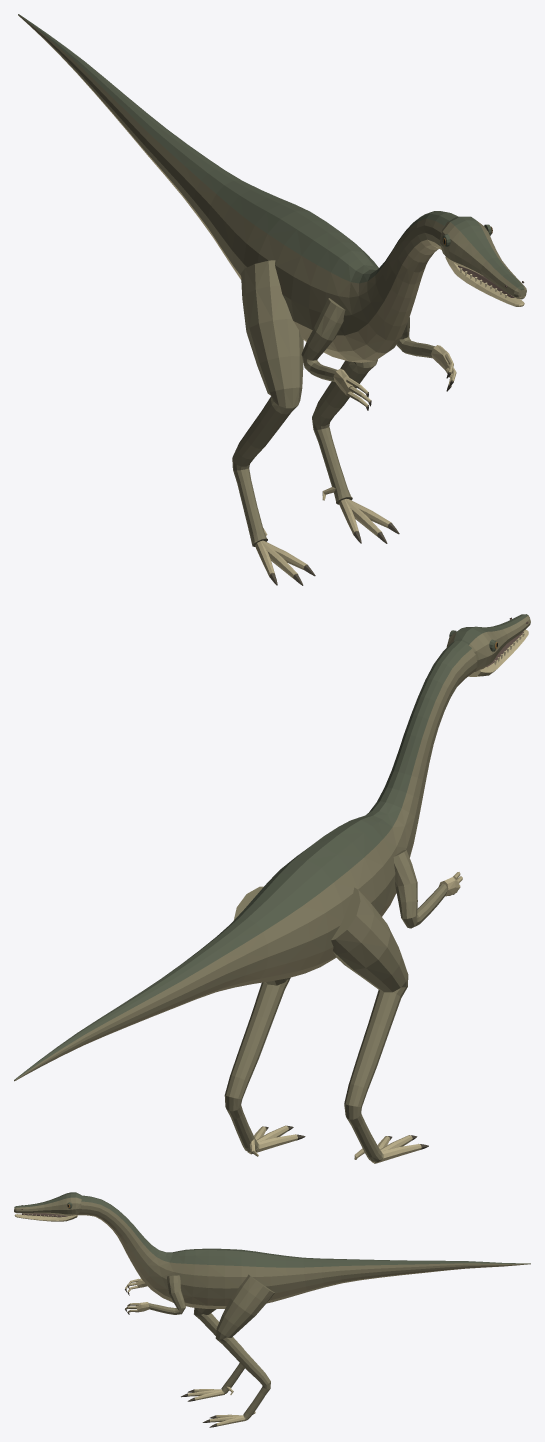
The picture shows the model from 3 angles, top to bottom: view 1: azimuth 30°, elevation 25°; view 2: azimuth 150°, elevation 25°; view 3: azimuth 270°, elevation 25°; orthographic projection. The views are drawn at different scales.
Parts seen in each view (by area): view 1: Axial-body-neck-tail, Left-thigh-shin-metatarsus, Low-wedge-upper-head, Right-thigh-shin-metatarsus, Left-flexed-forelimb, Right-three-toed-foot, Left-three-toed-foot, Slender-lower-jaw; view 2: Axial-body-neck-tail, Left-thigh-shin-metatarsus, Right-thigh-shin-metatarsus, Left-flexed-forelimb, Low-wedge-upper-head, Right-three-toed-foot, Left-three-toed-foot; view 3: Axial-body-neck-tail, Right-thigh-shin-metatarsus, Low-wedge-upper-head, Right-flexed-forelimb, Left-thigh-shin-metatarsus, Left-three-toed-foot, Right-three-toed-foot, Slender-lower-jaw.
Part boxes in pixels (box(x1,y1,x2,y2)): Axial-body-neck-tail: box(18, 14, 458, 362); Left-thigh-shin-metatarsus: box(232, 260, 303, 546); Low-wedge-upper-head: box(440, 216, 526, 299); Right-thigh-shin-metatarsus: box(312, 359, 377, 504); Left-flexed-forelimb: box(301, 298, 345, 381); Right-three-toed-foot: box(322, 487, 391, 536); Left-three-toed-foot: box(255, 528, 307, 578); Slender-lower-jaw: box(445, 257, 524, 306); Axial-body-neck-tail: box(14, 640, 477, 1081); Left-thigh-shin-metatarsus: box(331, 887, 408, 1162); Right-thigh-shin-metatarsus: box(224, 886, 290, 1152); Left-flexed-forelimb: box(393, 850, 447, 928); Low-wedge-upper-head: box(446, 614, 530, 671); Right-three-toed-foot: box(247, 1125, 297, 1156); Left-three-toed-foot: box(354, 1135, 421, 1163); Axial-body-neck-tail: box(77, 1195, 530, 1308); Right-thigh-shin-metatarsus: box(215, 1274, 274, 1419); Low-wedge-upper-head: box(14, 1192, 81, 1216); Right-flexed-forelimb: box(148, 1275, 185, 1314); Left-thigh-shin-metatarsus: box(194, 1307, 244, 1393); Left-three-toed-foot: box(188, 1386, 233, 1400); Right-three-toed-foot: box(210, 1411, 255, 1426); Slender-lower-jaw: box(14, 1214, 77, 1221).
Bounding box in the file's own units: 0.3984 × 1.13 × 2.45.
